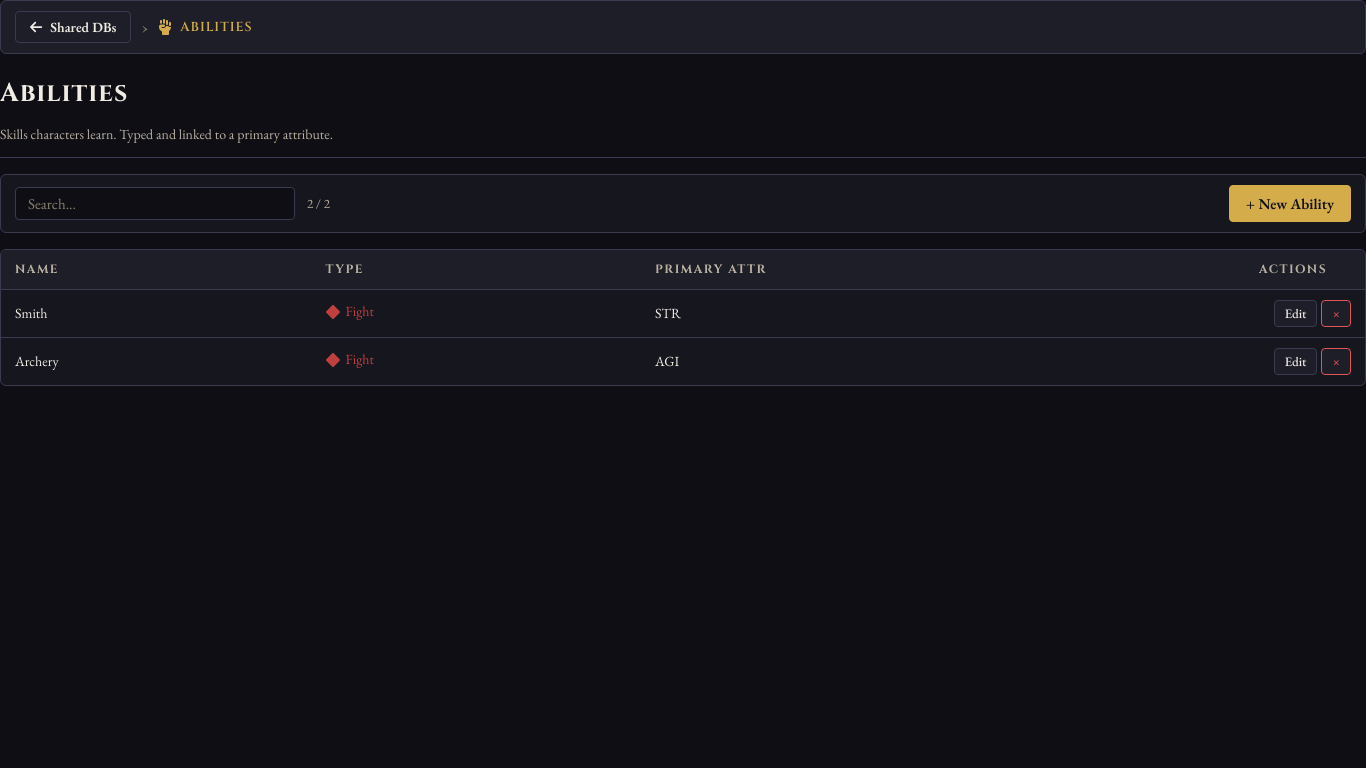
Test: RefTablePage › opens modal on create click
The image size is (1366, 768).
Check: the text "Smith" is shown, box [1,289,312,337]
Click the button "+ New Ability" at (1290, 204), box [1229,185,1351,222]
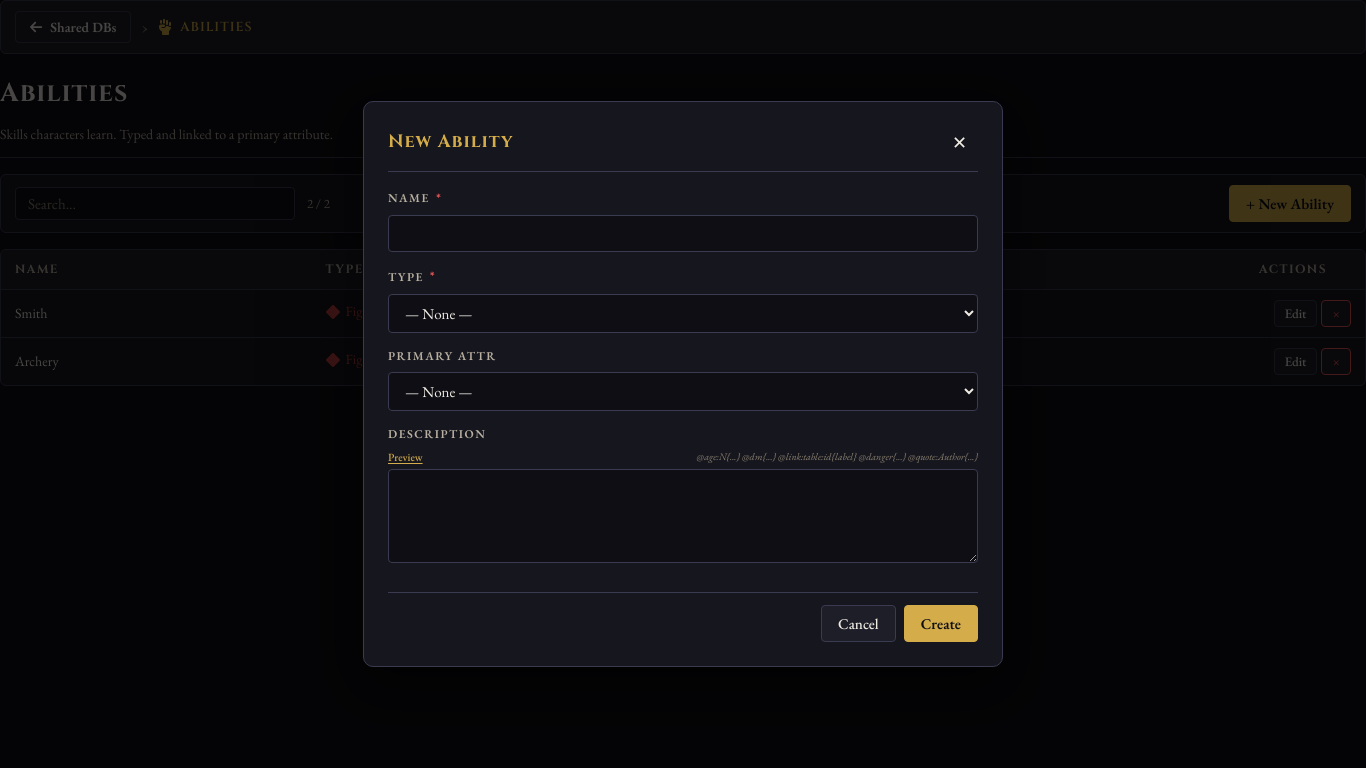
Check: the button "Cancel" is shown, box [821,605,896,642]
